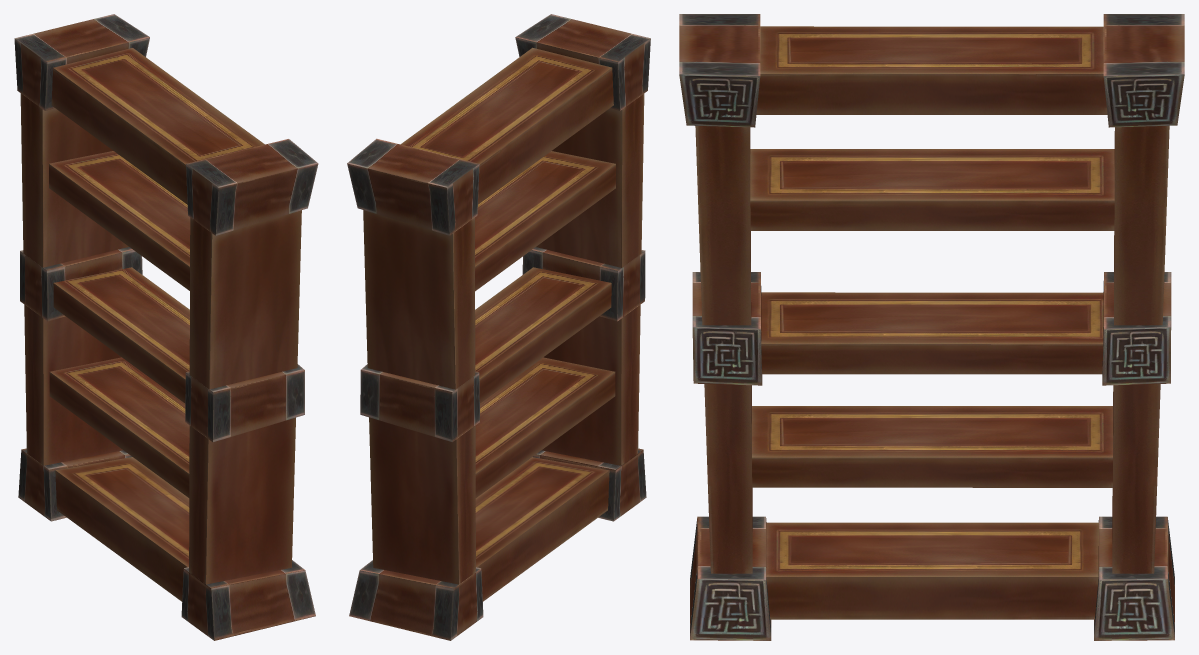
The model's file is bookshelfdwarvenaverage05.obj.
3 views of the same model, side by side, from view 1: azimuth 30°, elevation 25°; view 2: azimuth 150°, elevation 25°; view 3: azimuth 270°, elevation 25° (orthographic). The views are drawn at different scales.
Visible parts, largest first — view 1: bookshelfdwarvenaverage05; view 2: bookshelfdwarvenaverage05; view 3: bookshelfdwarvenaverage05.
Part boxes in pixels (x1,y1,x2,y2): bookshelfdwarvenaverage05: (14, 14, 318, 640); bookshelfdwarvenaverage05: (347, 14, 650, 640); bookshelfdwarvenaverage05: (679, 14, 1184, 640).
Size of the model in its own units: 0.8333 by 3.53 by 2.86.
Materials: 1 (1 with a texture image).
